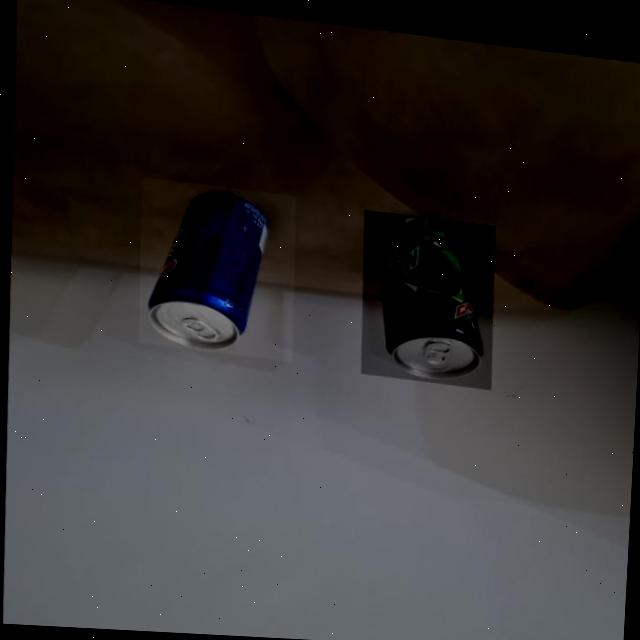trash: (361, 207, 496, 384), (148, 184, 278, 355)
